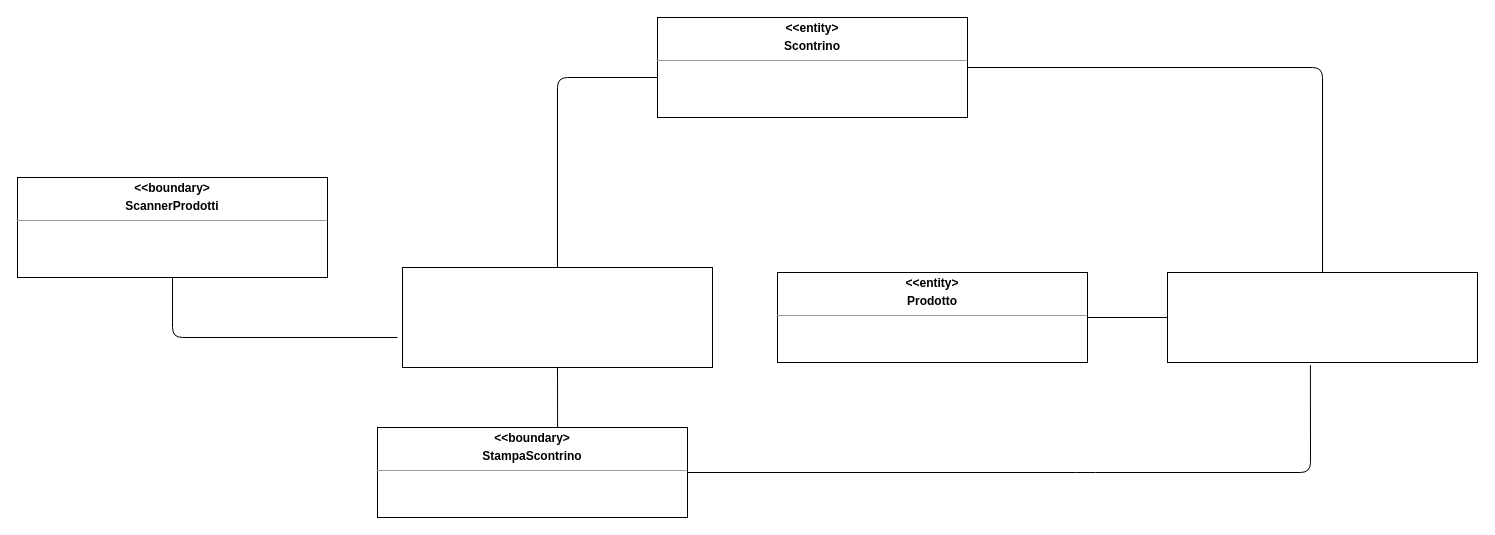
Some shapes in this 1495 by 535 pixel diagram are drawn without their labels. Here are the shapes that lost their labels. From the top down, the centre of each, then its label:
[557,317]: <<control> ScannerProdottiControl
[1322,317]: <<control> MagazzinoControl
